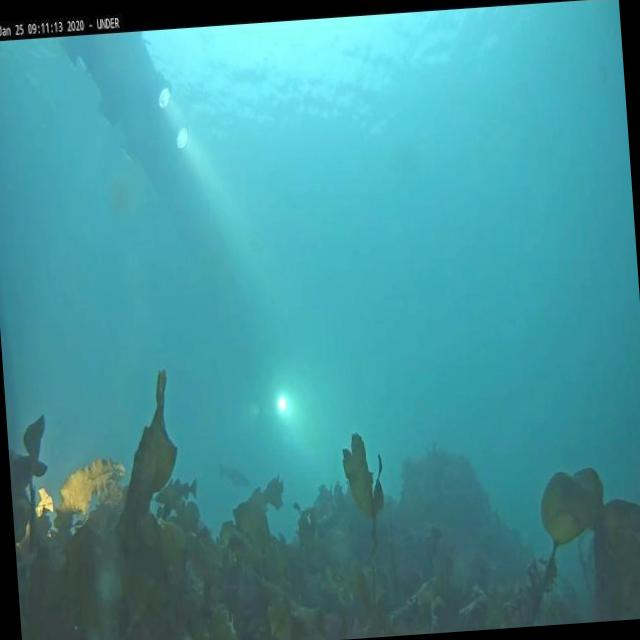fish: (214, 458, 252, 493), (162, 476, 198, 502)
